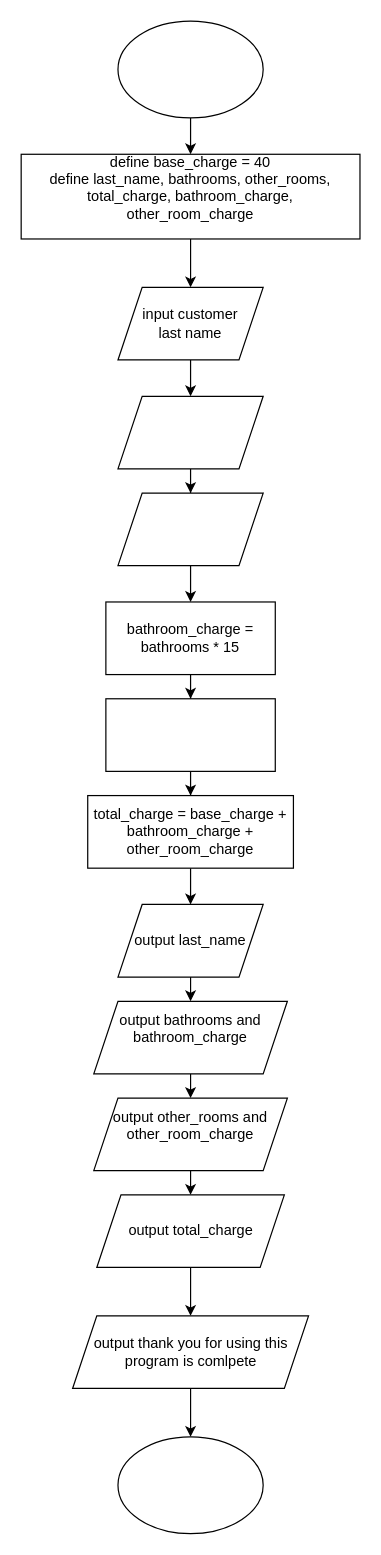
Image size: 381x1555. Some labels were removed from this diagram. The shapes that lost their labels are listed below. From the top down, each one's box as (x1, y1, x2, y2) in pixels, then its label:
(117, 20, 263, 118): Start
(117, 395, 263, 469): input number of bathrooms
(117, 492, 263, 566): input number of other rooms
(105, 698, 275, 771): other_room_charge = other_rooms * 10
(117, 1436, 263, 1534): End
